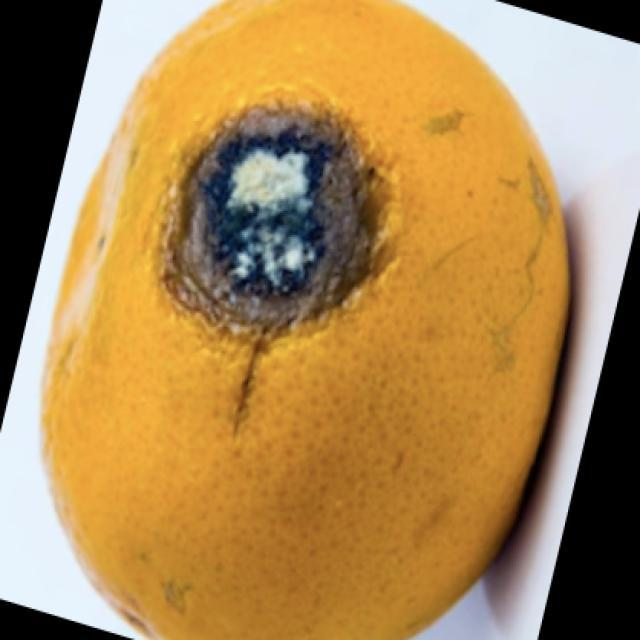sedikit-busuk: (43, 0, 568, 639)
